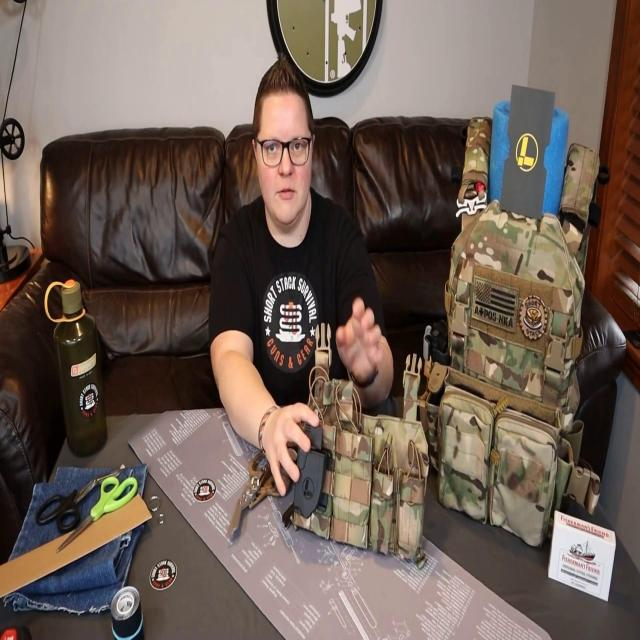scissor: (56, 476, 138, 553), (226, 450, 292, 536), (35, 469, 119, 534)
